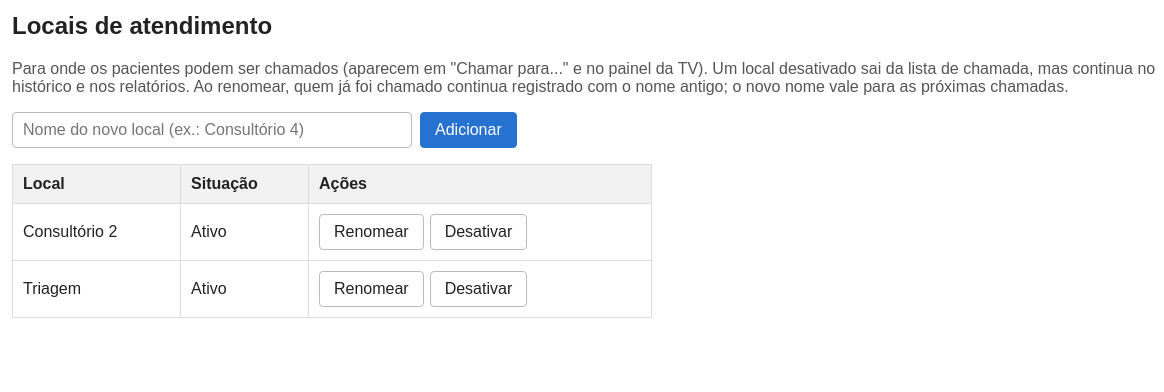
Test: salvar: manda PUT com o nome novo e volta a mostrar a lista
Expected: the cell "Consultório 2" is shown, [12, 203, 181, 260]
Click the button "Renomear" in the row of "Consultório 2" at (371, 232), box [319, 214, 424, 250]
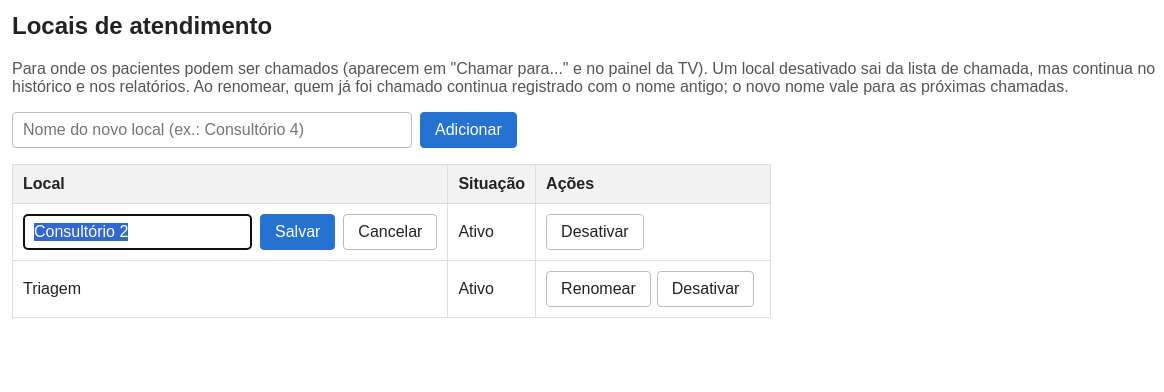
Type "Pediatria" into the field named "Novo nome para Consultório 2" at (138, 232), box [23, 214, 252, 250]
Then press Enter
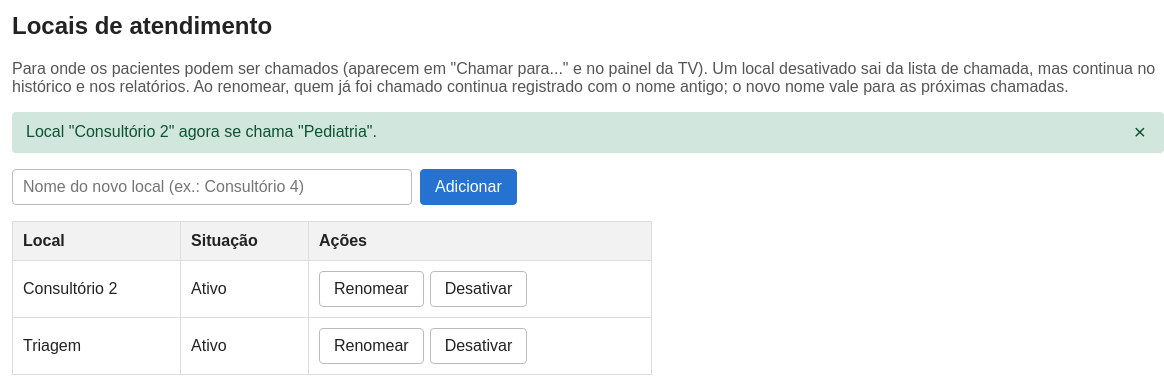
Expected: the message shows "agora se chama \"Pediatria\"", [26, 123, 377, 140]
